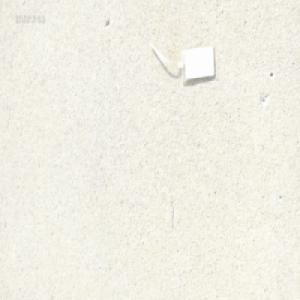LuggageTag: (145, 40, 217, 83)
